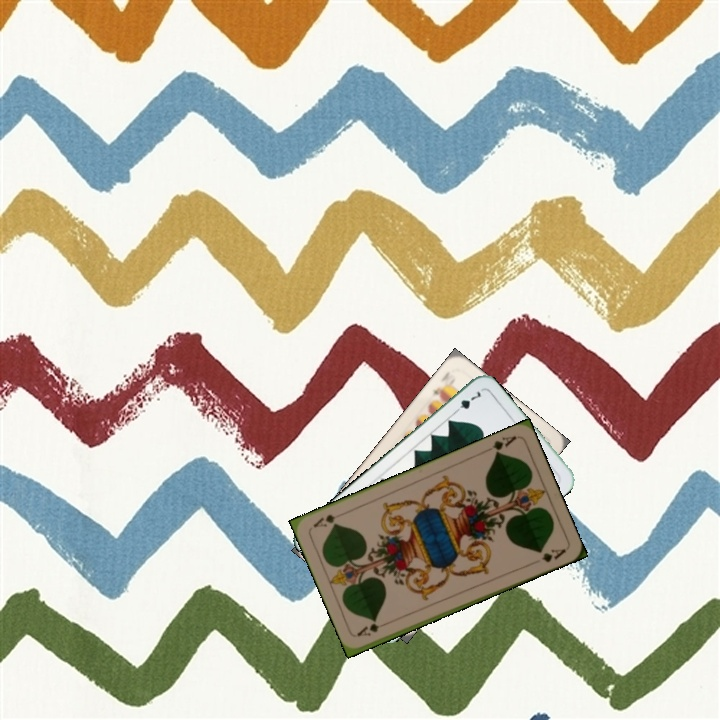E10: (428, 377, 449, 402)
G7: (449, 387, 483, 417)
GA: (480, 431, 519, 458), (353, 617, 393, 639)
